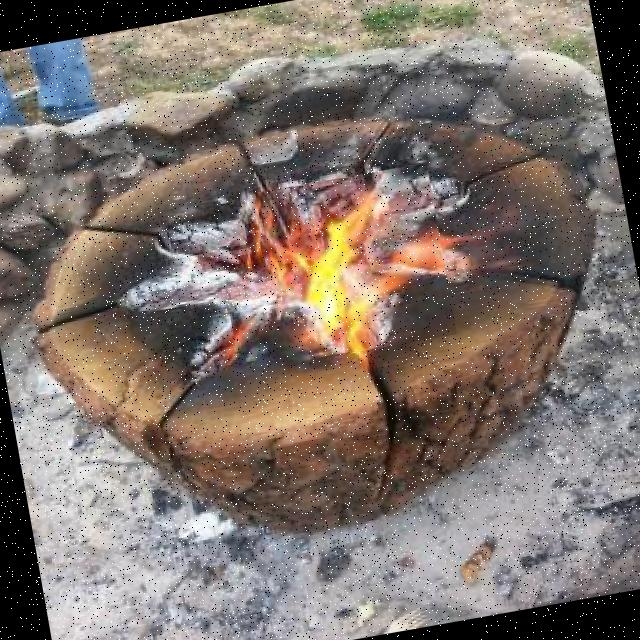fire: (258, 162, 457, 363)
